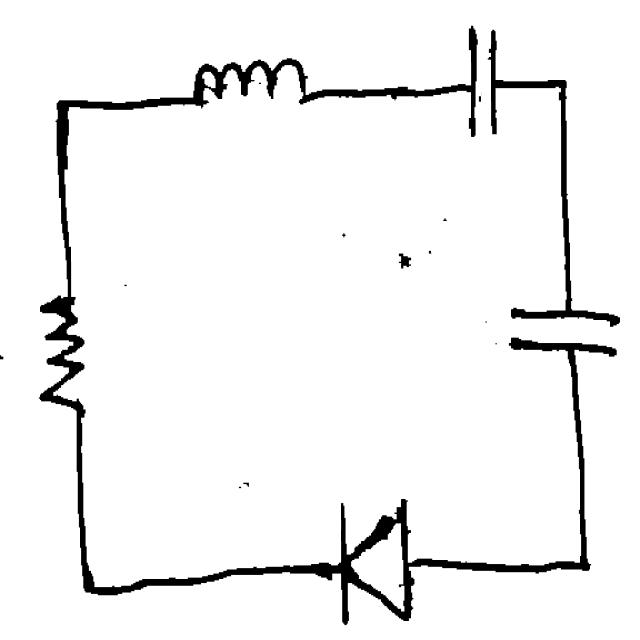capacitor: (499, 276, 629, 379), (446, 12, 514, 144)
diode: (316, 478, 428, 636), (28, 272, 98, 436)
inductor: (176, 44, 323, 126)
